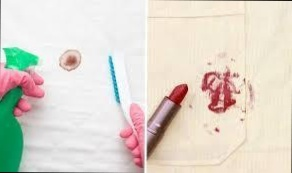blood: (57, 46, 81, 72)
lipstick: (189, 66, 243, 136), (241, 78, 261, 113), (203, 52, 240, 69)
